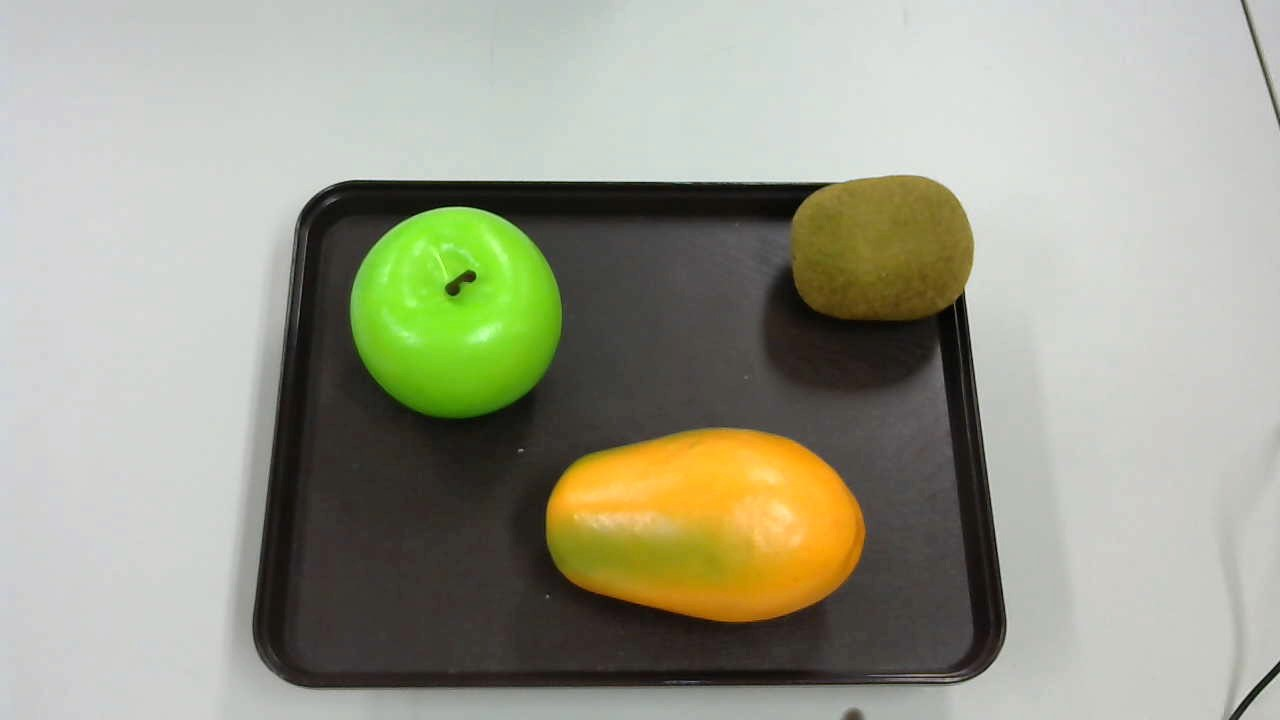green apple: (353, 199, 562, 419)
kiwi fruit: (790, 170, 979, 333)
papya: (544, 427, 869, 626)
